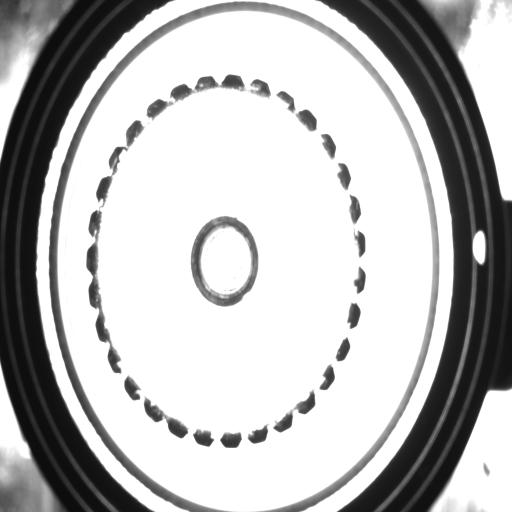gear: (86, 76, 366, 448)
